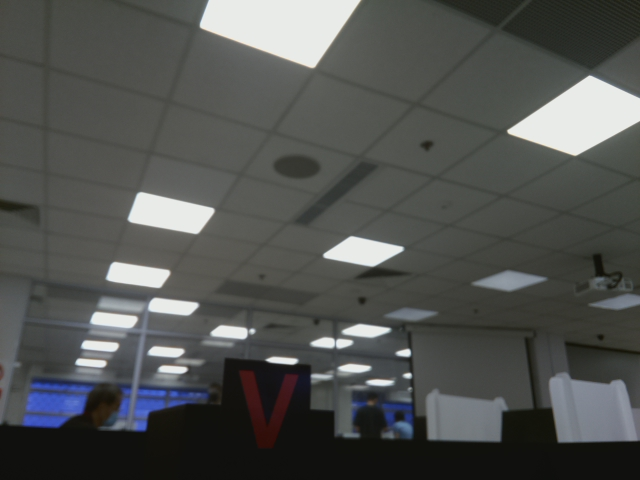v: (223, 373, 303, 458)
